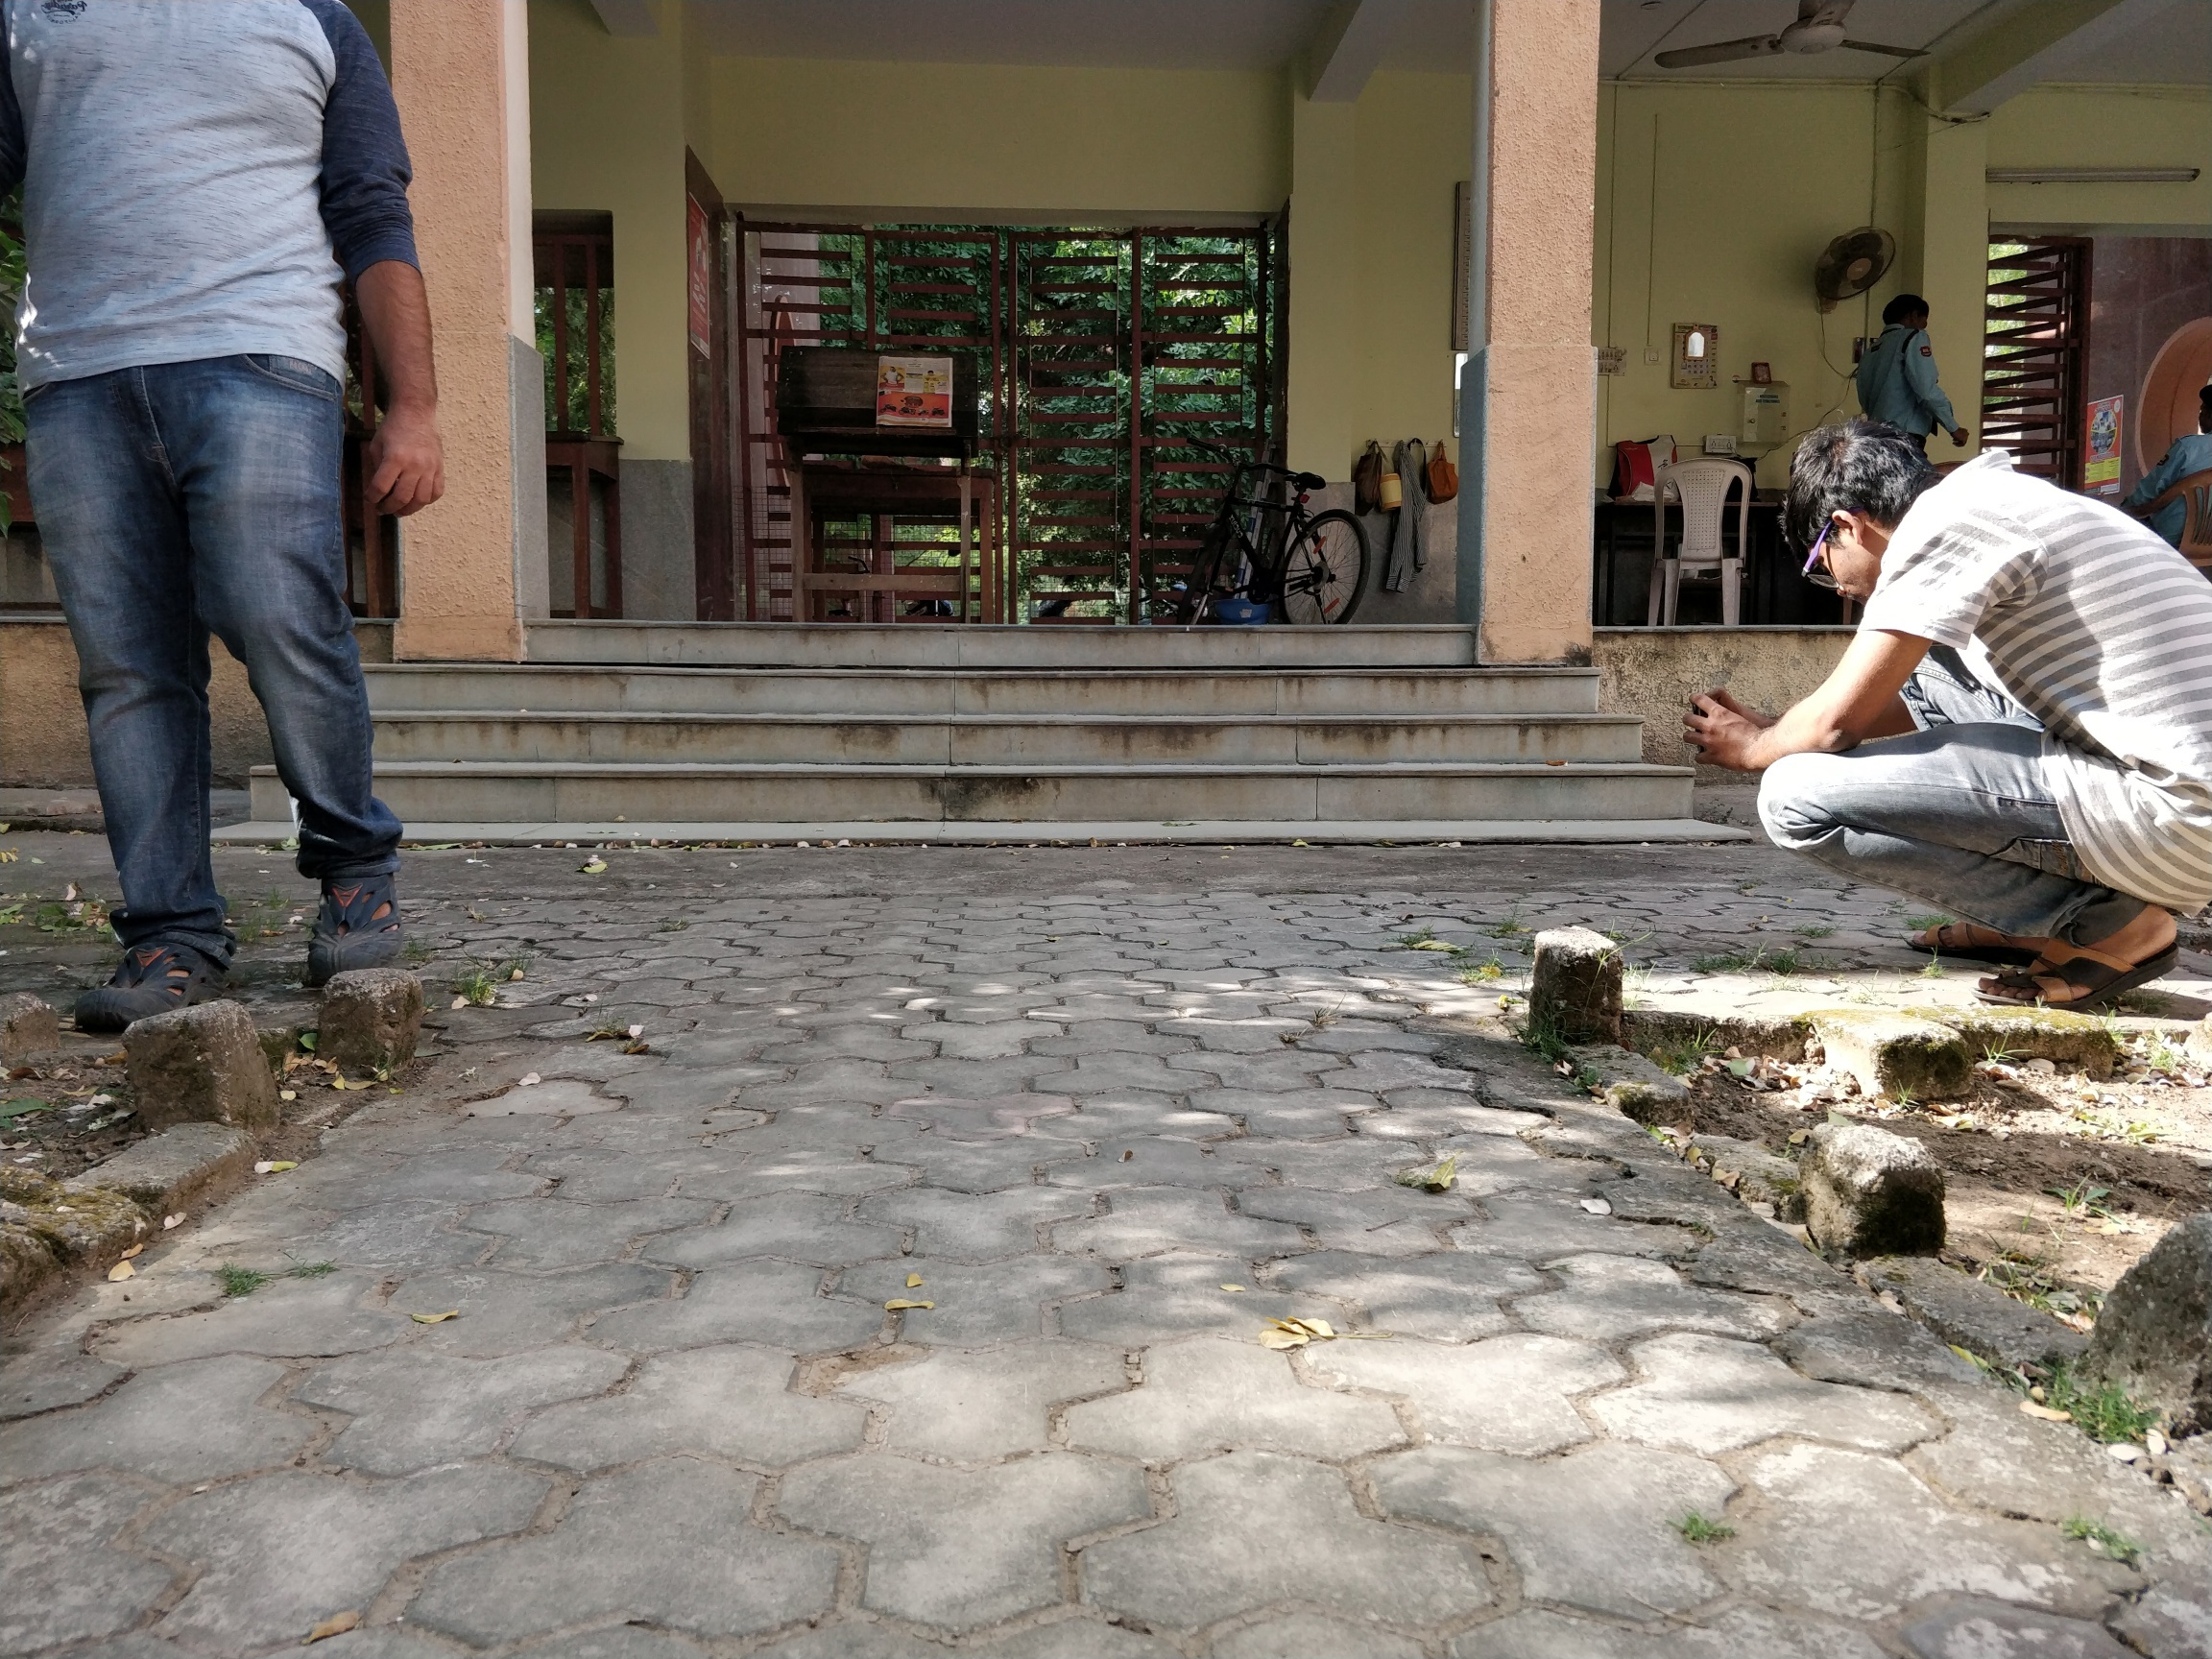stairs_up: (237, 615, 1705, 835)
